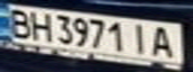1: (106, 19, 130, 52)
3: (51, 12, 75, 45)
7: (87, 16, 109, 50)
9: (69, 15, 90, 47)
A: (148, 24, 181, 58)
B: (3, 6, 33, 38)
H: (24, 9, 54, 43)
I: (127, 20, 154, 55)
